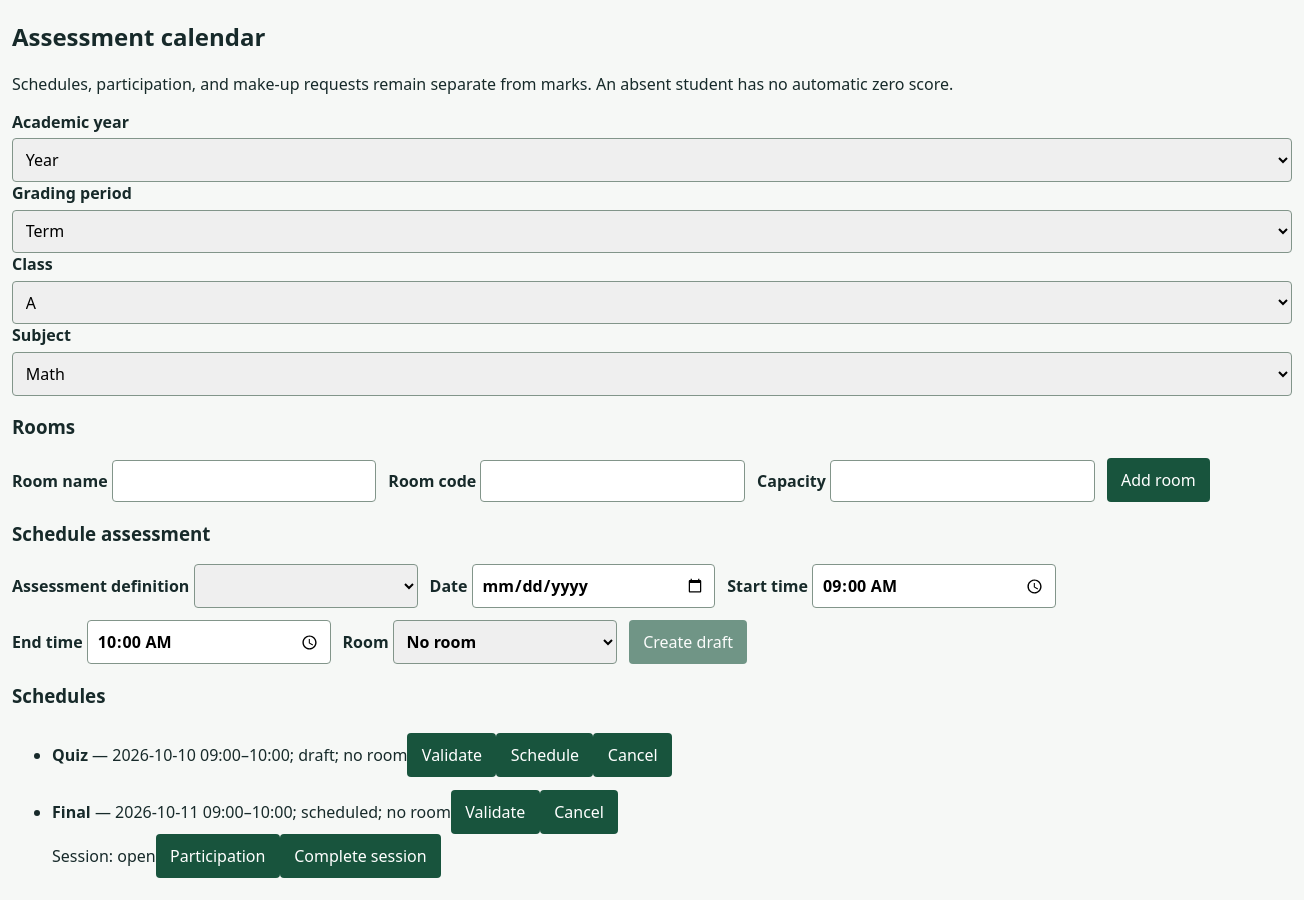
Test: shows blocking conflicts and keeps missing participation separate from absence
Check: the text "Quiz" is shown, box [52,744,88,766]
Click the button "Validate" in the row of "Quiz" at (452, 755), box [408,733,496,777]
(page scrolled)
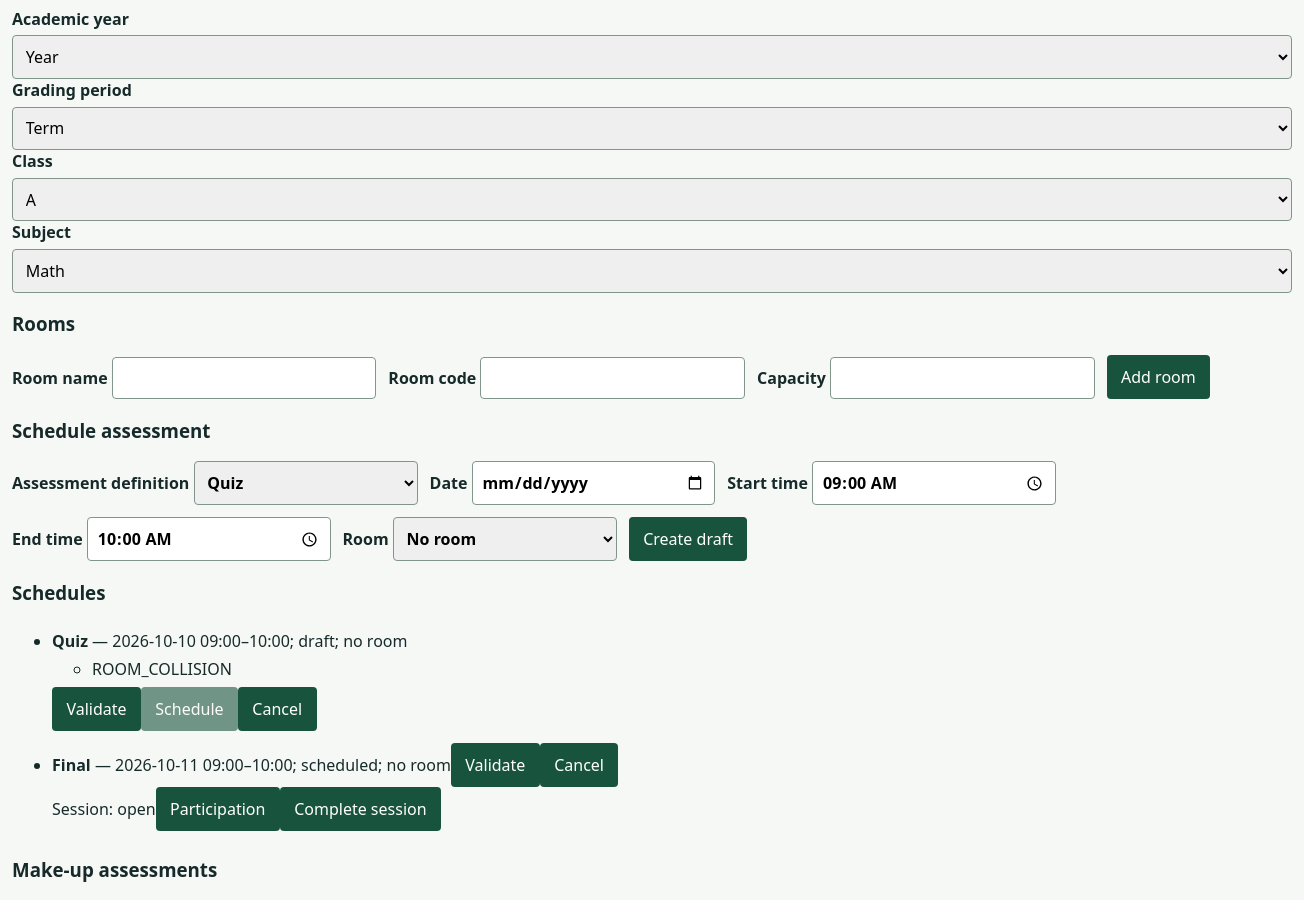
Check: the list item "ROOM_COLLISION" is shown, box [92,658,232,680]
Check: the button "Schedule" is disabled, box [141,687,238,731]
Click the button "Participation" at (218, 809), box [156,787,280,831]
(page scrolled)
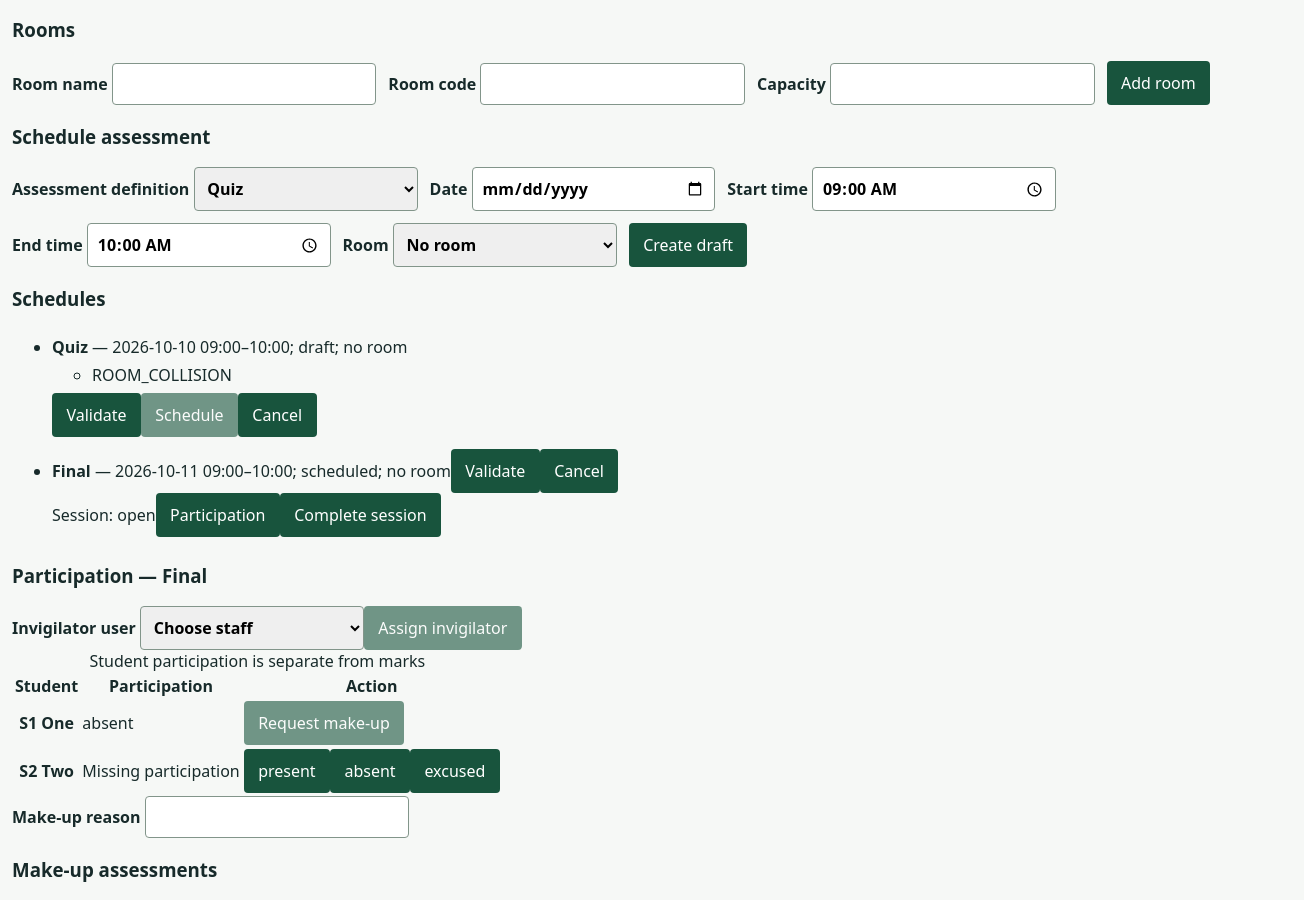
Check: the text "Missing participation" is shown, box [81,748,241,794]
Check: the text "absent" is shown, box [81,700,241,746]
